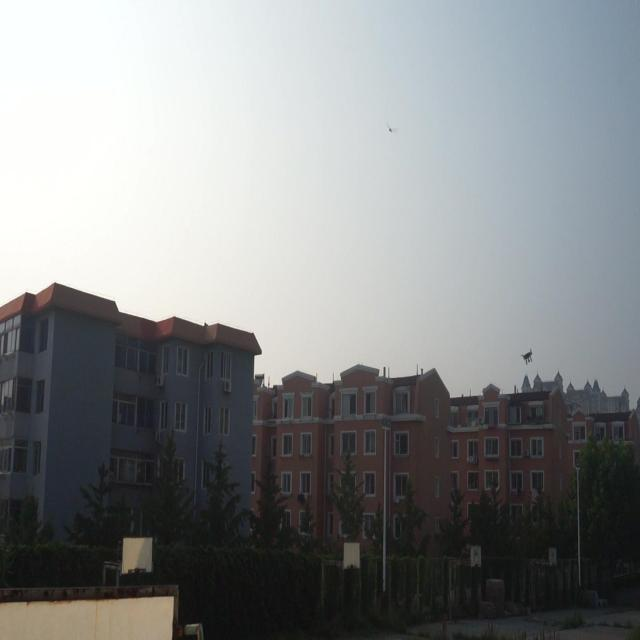UAV: (520, 348, 533, 365)
